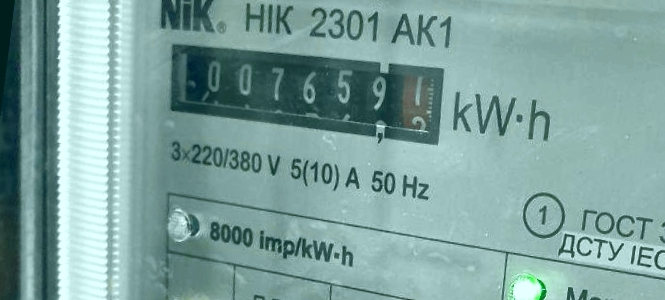0: (232, 57, 257, 100), (202, 56, 226, 96)
1: (406, 70, 429, 109)
5: (330, 65, 357, 107)
6: (296, 64, 323, 108)
7: (263, 61, 290, 103)
9: (366, 71, 392, 114)
screen: (153, 27, 454, 155)
